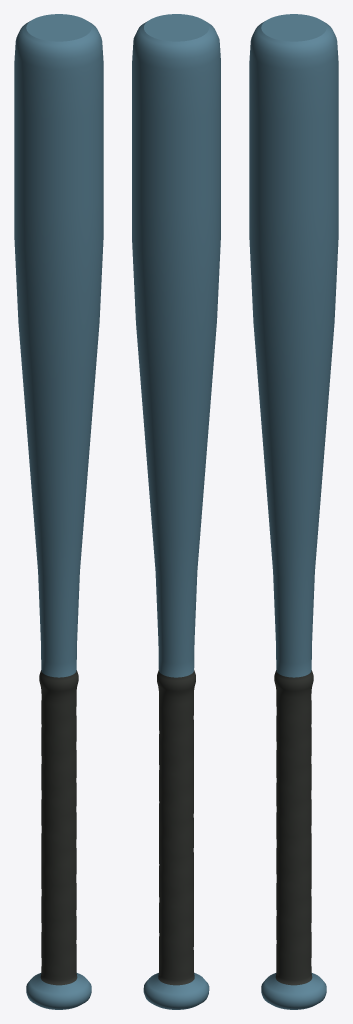
The model's file is A-NEW-20261027-BASEBALL-BAT-001_LOD1_R2.glb.
3 renders of one model, left to right at view 1: azimuth 90°, elevation 25°; view 2: azimuth 150°, elevation 25°; view 3: azimuth 270°, elevation 25°, orthographic.
Parts seen in each view (by area): view 1: continuous original knob grip taper and barrel; view 2: continuous original knob grip taper and barrel; view 3: continuous original knob grip taper and barrel.
Part boxes in pixels (left/top/right/bottom): continuous original knob grip taper and barrel: left=14, top=14, right=103, bottom=1009; continuous original knob grip taper and barrel: left=132, top=14, right=220, bottom=1009; continuous original knob grip taper and barrel: left=249, top=14, right=338, bottom=1009.
Size of the model in its own units: 0.068 by 0.818 by 0.068.
